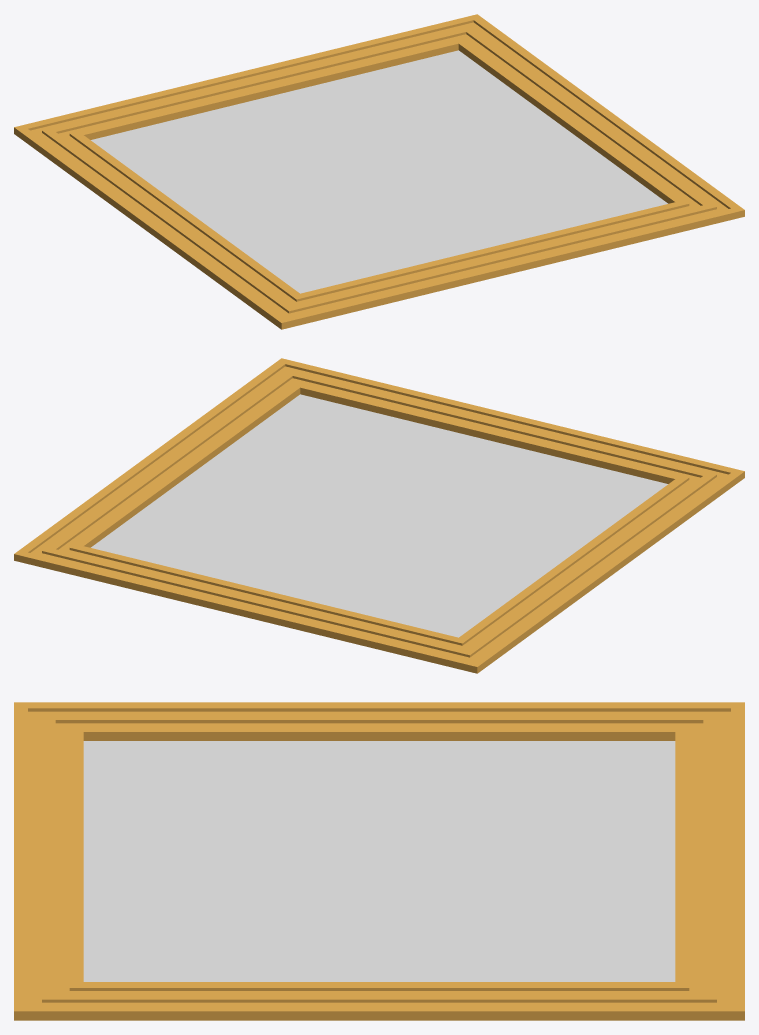
File: wallPainting.fbx
3 views of the same model, one above another, from view 1: azimuth 30°, elevation 25°; view 2: azimuth 150°, elevation 25°; view 3: azimuth 270°, elevation 25° (orthographic). The views are drawn at different scales.
Parts seen in each view (by area): view 1: painting; view 2: painting; view 3: painting.
Boxes of the visible parts, <box> form: painting: <box>14,14,744,329</box>; painting: <box>14,358,744,673</box>; painting: <box>14,702,744,1020</box>.
Size of the model in its own units: 100 by 1.37 by 100.
